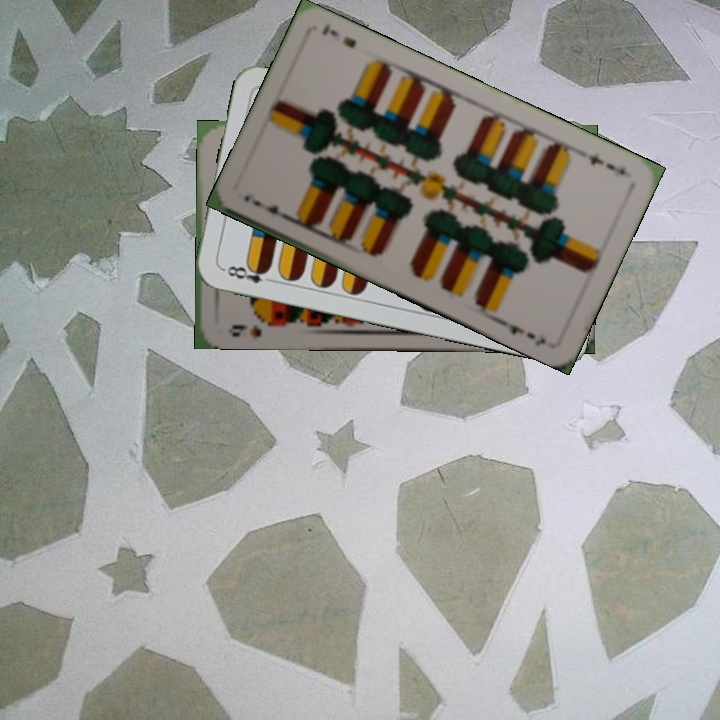E7: (584, 148, 629, 179), (248, 195, 293, 224)
E8: (219, 260, 277, 286)
S9: (227, 314, 278, 341)
